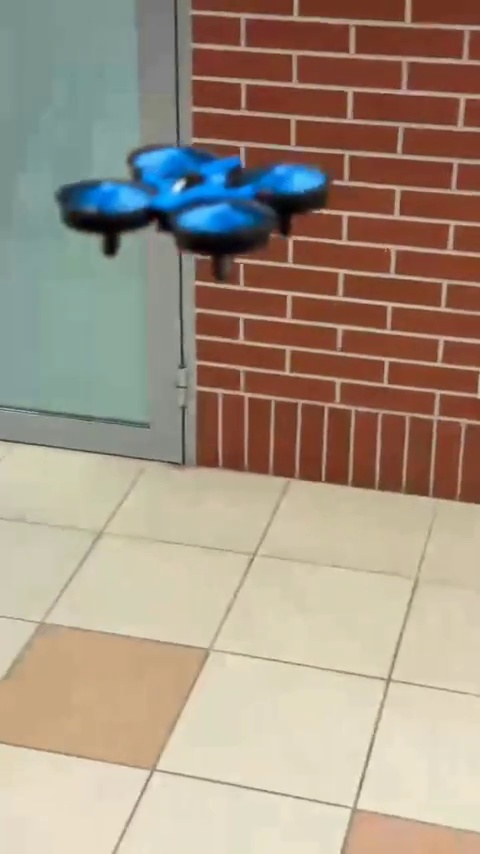drone: (53, 141, 334, 273)
